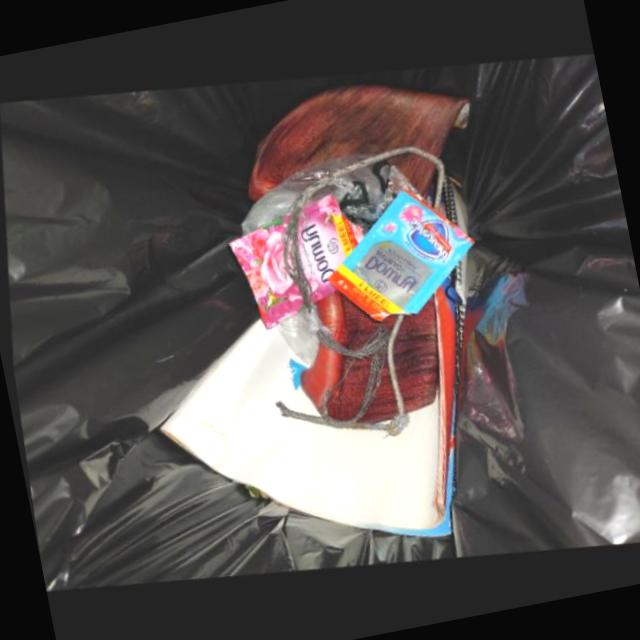carton: (134, 270, 453, 536)
goi_nhua_nho: (224, 192, 359, 329), (339, 187, 470, 321)
vo_rau_cu: (243, 82, 463, 201), (296, 289, 437, 422), (381, 151, 430, 198)
